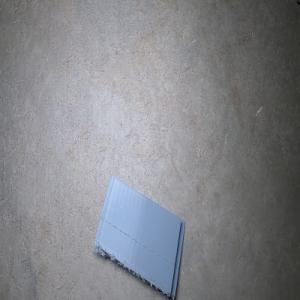PlasticPart: (92, 174, 185, 300)
